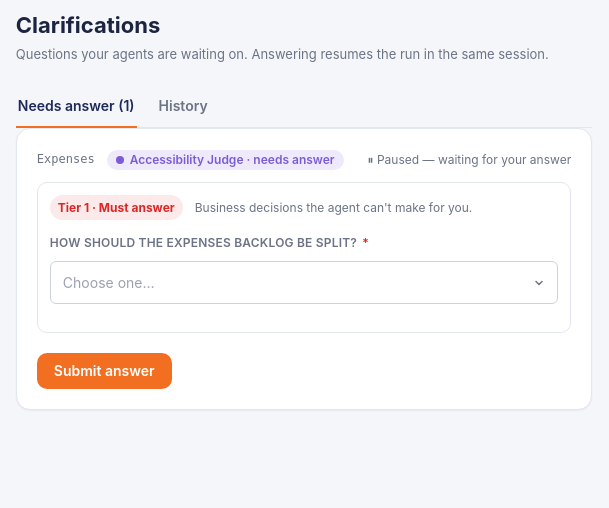
S-20 Clarifications · the answer control (S.No 184) › still treats 'something else' with nothing typed as unanswered
The width and height of the screenshot is (609, 508).
Click the dropdown named "expenses backlog" at x=109, y=282, box [50,261,558,304]
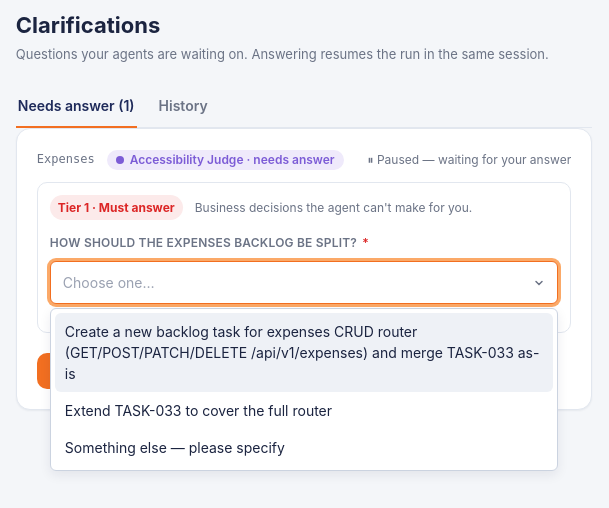
Click the option "Something else — please specify" at x=175, y=448, box [65,439,285,456]
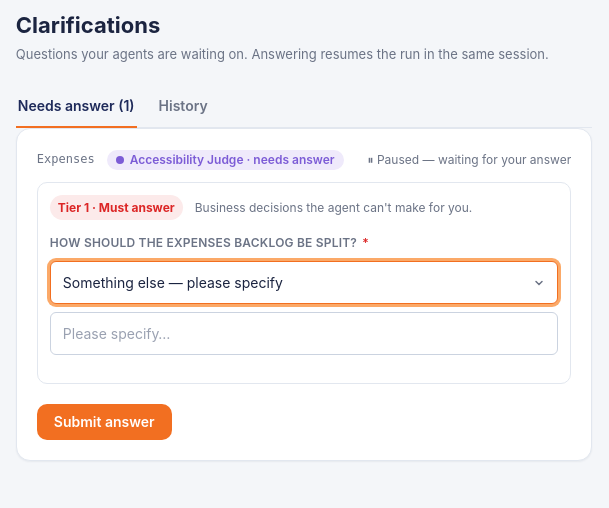
Click the button "Submit answer" at x=104, y=422, box [37,404,172,440]
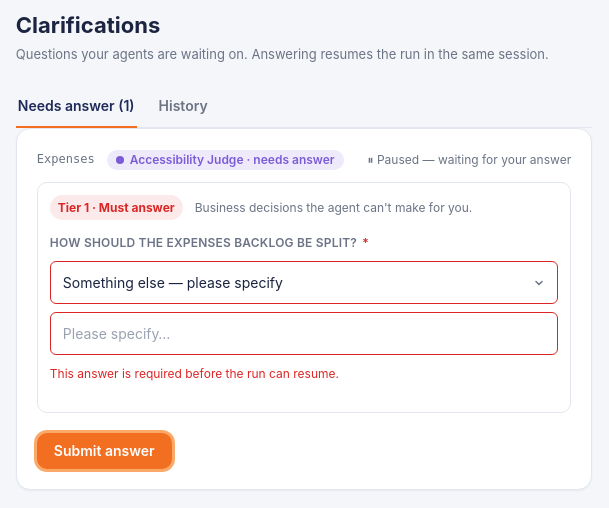
Now the text "This answer is required before the run can resume." is shown, box [50,366,339,381]
